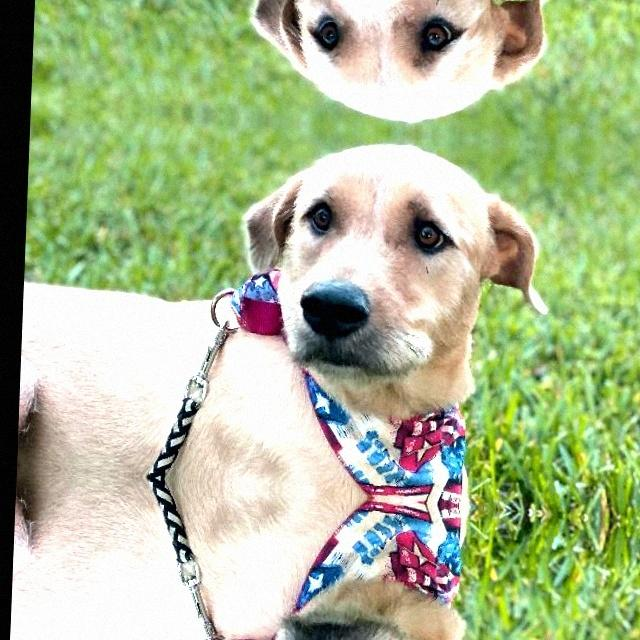dog: (220, 124, 554, 408), (229, 0, 562, 140), (208, 589, 536, 640)
